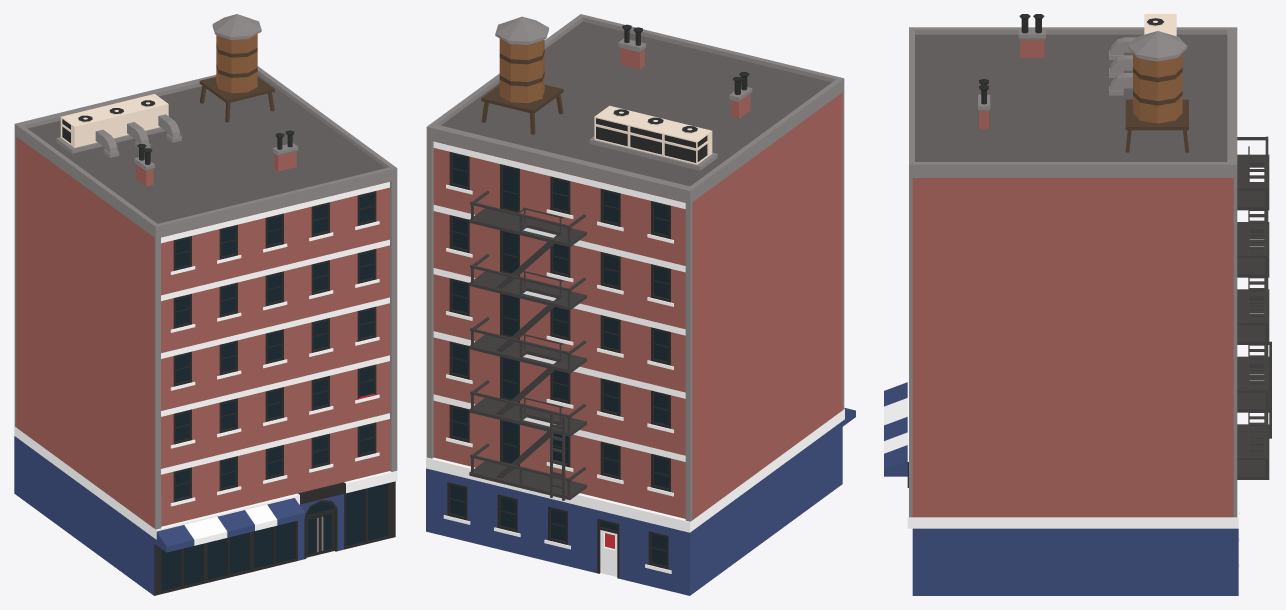
The model's file is building-block-5floor.glb.
3 renders of one model, left to right at view 1: azimuth 30°, elevation 25°; view 2: azimuth 150°, elevation 25°; view 3: azimuth 270°, elevation 25°, orthographic. The views are drawn at different scales.
Visible parts, largest first — view 1: building-block-5floor; view 2: building-block-5floor; view 3: building-block-5floor.
Boxes of the visible parts, left/top/right/bottom form: building-block-5floor: left=14, top=14, right=397, bottom=595; building-block-5floor: left=426, top=14, right=855, bottom=595; building-block-5floor: left=884, top=14, right=1271, bottom=595.
Size of the model in its own units: 13.1 by 23.81 by 15.65.
1 material, 1 textured.
